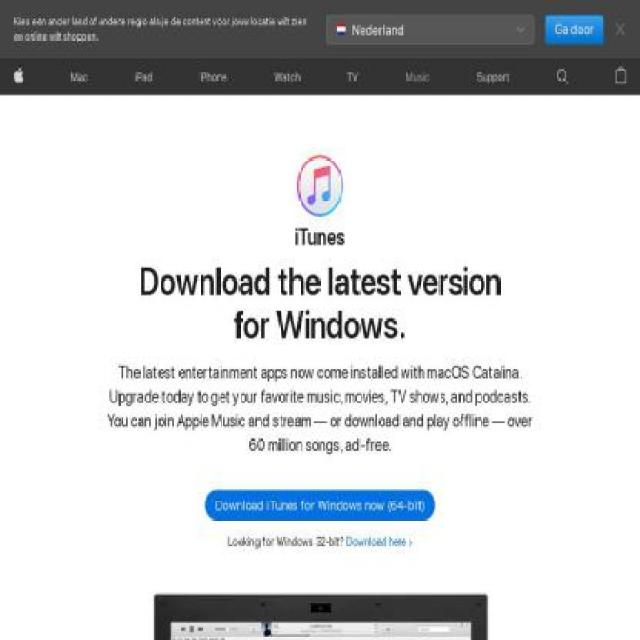button: (204, 489, 436, 520), (326, 13, 534, 44), (545, 13, 604, 44), (470, 58, 516, 96), (192, 58, 234, 96), (268, 58, 306, 96), (399, 58, 436, 96), (128, 58, 160, 96), (66, 58, 94, 96), (341, 58, 365, 96), (609, 58, 633, 96), (7, 58, 30, 96)
